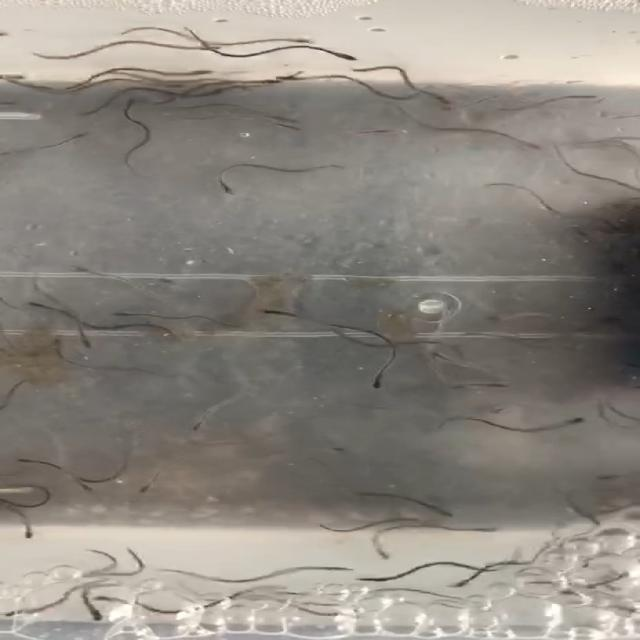active_glass_eel: (79, 589, 126, 606), (429, 90, 466, 110), (270, 70, 311, 88), (428, 298, 471, 315), (363, 370, 392, 394), (73, 477, 106, 498), (345, 571, 391, 586), (438, 578, 490, 591), (179, 40, 224, 55), (31, 266, 96, 276), (307, 562, 352, 576), (428, 352, 466, 368), (592, 468, 635, 482), (513, 137, 553, 152), (268, 119, 308, 134), (188, 416, 218, 435), (268, 32, 314, 44), (215, 179, 244, 198), (246, 77, 288, 90), (26, 298, 58, 315), (324, 48, 360, 63), (103, 306, 141, 320), (489, 379, 524, 394), (6, 453, 41, 468), (18, 522, 43, 543), (54, 129, 94, 142), (175, 64, 218, 76), (1, 605, 44, 617), (158, 275, 188, 292), (52, 331, 72, 356), (136, 479, 162, 498), (248, 305, 288, 317), (374, 540, 398, 560), (482, 312, 511, 328), (544, 415, 586, 426), (320, 444, 350, 459), (121, 94, 144, 112), (367, 126, 401, 138), (88, 606, 109, 624), (157, 79, 188, 91), (75, 335, 95, 350)
